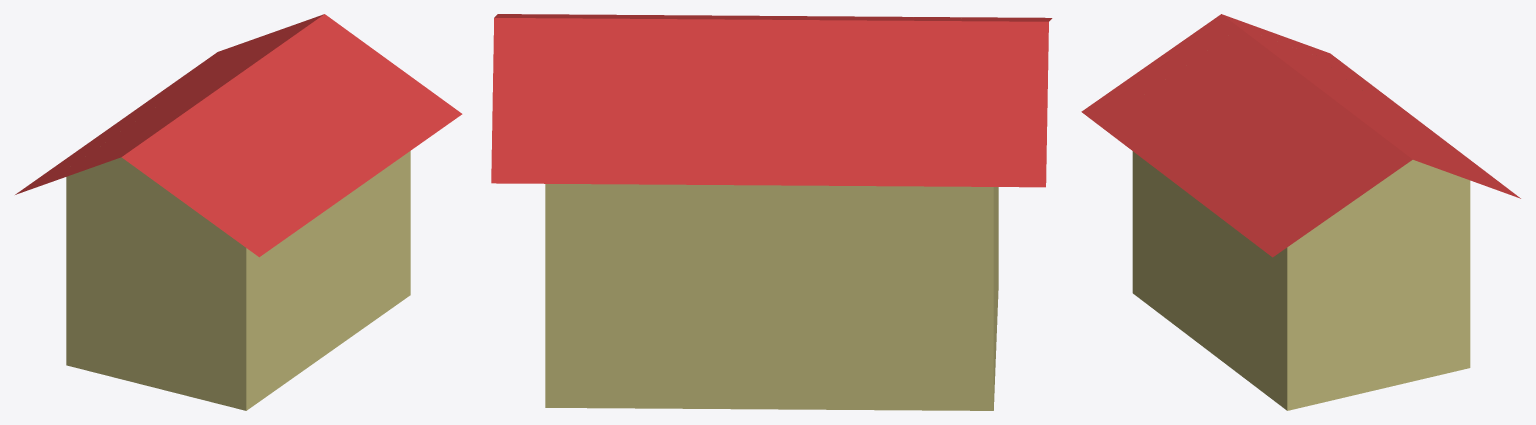
The picture shows the model from 3 angles, left to right: view 1: azimuth 30°, elevation 25°; view 2: azimuth 150°, elevation 25°; view 3: azimuth 270°, elevation 25°; orthographic projection. The views are drawn at different scales.
Bounding box in the file's own units: 12.78 × 11.65 × 7.01.
